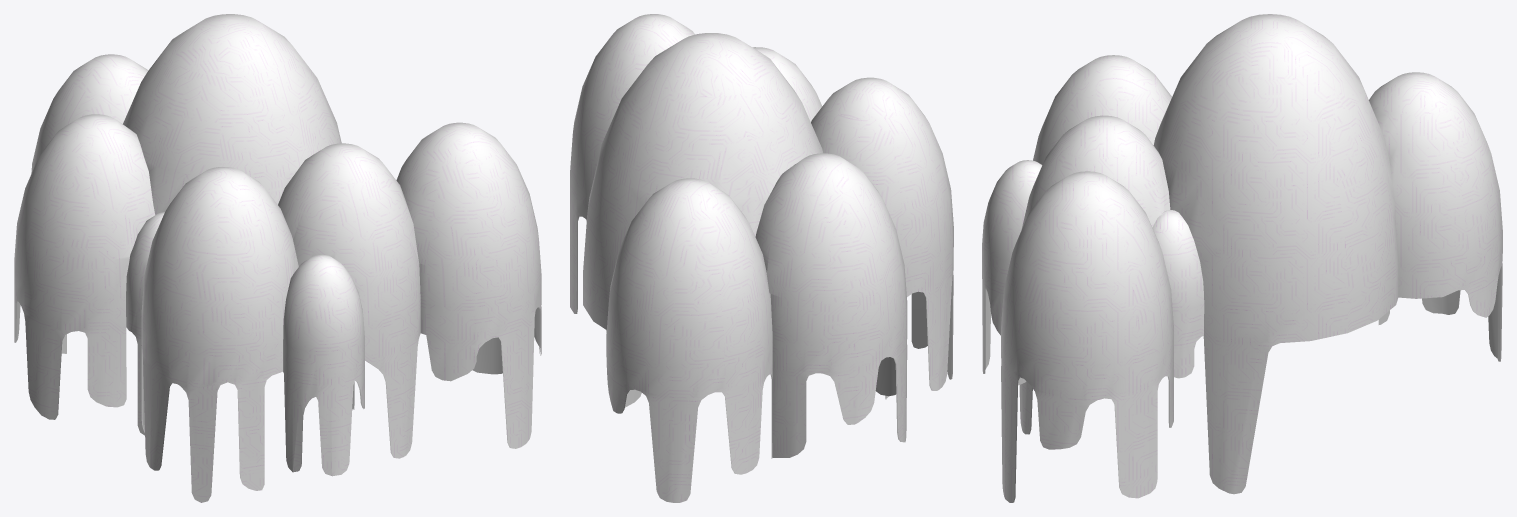
The model's file is Dome03_Art.fbx.
3 views of the same model, side by side, from view 1: azimuth 30°, elevation 25°; view 2: azimuth 150°, elevation 25°; view 3: azimuth 270°, elevation 25° (orthographic). The views are drawn at different scales.
Visible parts, largest first — view 1: Dome03_Art; view 2: Dome03_Art; view 3: Dome03_Art.
Boxes of the visible parts, x1,y1,x2,y2 form: Dome03_Art: (14, 14, 541, 502); Dome03_Art: (570, 14, 953, 502); Dome03_Art: (982, 14, 1502, 502).
Bounding box in the file's own units: 38.49 × 36.1 × 40.54.
